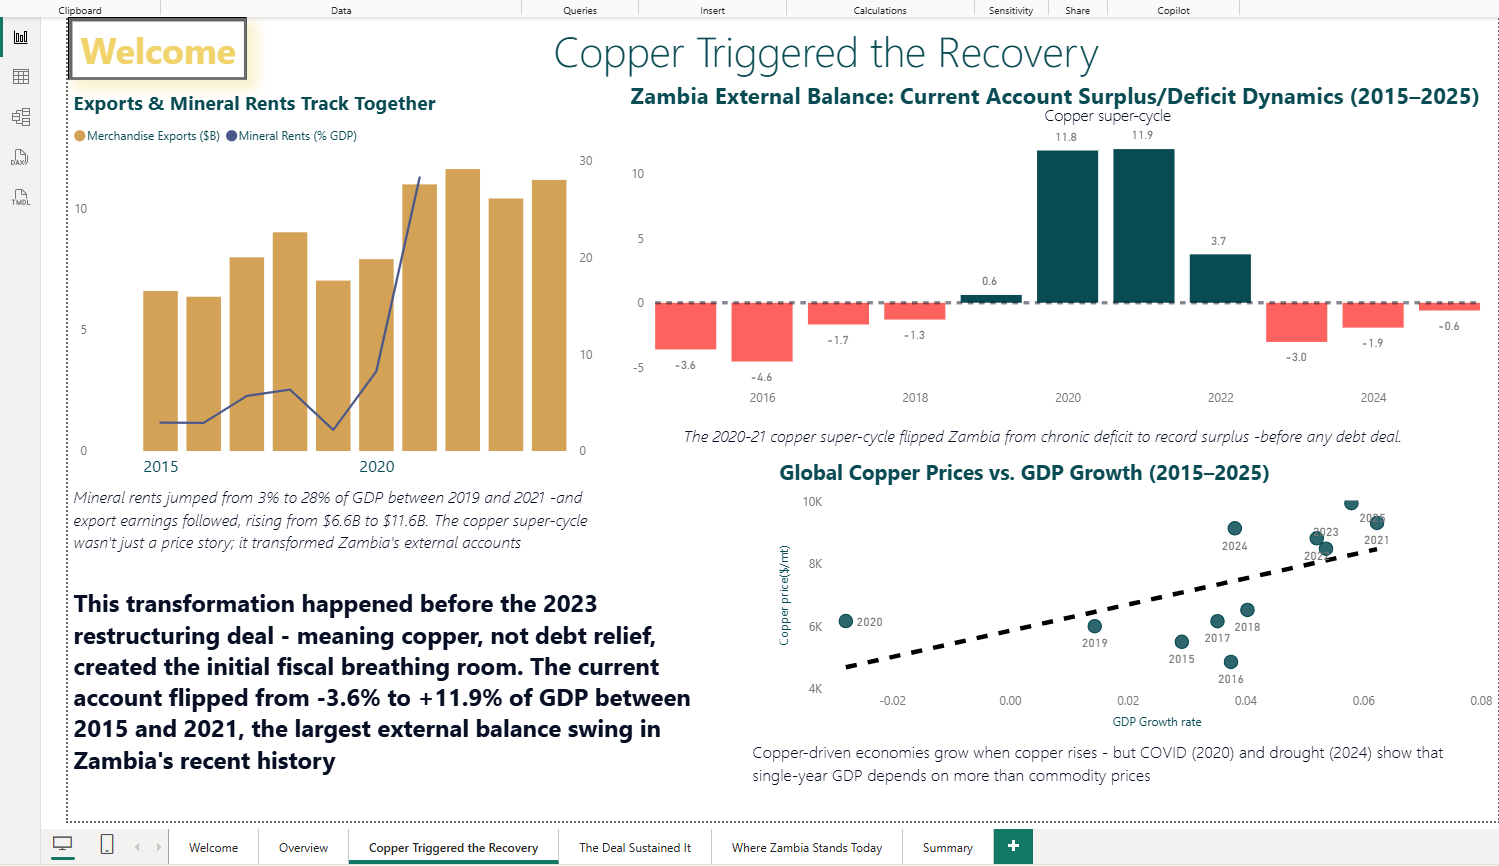

Layout of this report page (visuals, bound fields, positions):
{"tool":"powerbi","page":{"name":"Copper Triggered the Recovery","canvas":[1280,720],"ordinal":2},"visuals":[{"type":"scatterChart","title":"Global Copper Prices vs. GDP Growth (2015–2025)","fields":{"X":["Master_Economic_Data.GDP Growth (%)"],"Category":["Copper production/Price (USD/MT, Nominal).Year "],"Y":["Sum(Copper production/Price (USD/MT, Nominal).Copper price ($/mt))"]},"box":[631.9,394.8,648.1,247.9],"z":0},{"type":"clusteredColumnChart","title":"Zambia External Balance: Current Account Surplus/Deficit Dynamics (2015–2025)","fields":{"Category":["Master_Economic_Data.Year"],"Y":["Master_Economic_Data.Current Account Balance"]},"box":[498.5,55.9,770.7,303.8],"z":1000},{"type":"actionButton","box":[0,0,159.5,55.9],"z":2000},{"type":"textbox","box":[430,0,589.5,64.9],"z":3000},{"type":"textbox","box":[0,504.8,567.9,215.4],"z":4000},{"type":"lineClusteredColumnComboChart","title":"Exports & Mineral Rents Track Together","fields":{"Category":["Macro_Annual.Year"],"Y":["Sum(Macro_Annual.MerchandiseExports_Billions)"],"Y2":["Sum(Macro_Annual.MineralRents_PctGDP)"]},"box":[0,64.9,475,357.9],"z":5000},{"type":"textbox","box":[546.3,359.7,665.2,42.4],"z":6000},{"type":"textbox","box":[869.9,73,141.5,32.5],"z":7000},{"type":"textbox","box":[608.5,642.7,660.7,77.5],"z":8000},{"type":"textbox","box":[0,414.6,475,74.8],"z":9000}]}

Visuals, with their boxes on the page's 1280x720 design canvas (x1, y1, x2, y2). These are canvas units, not pixel positions in the 1499x866 screenshot, which may show the page scaled, cropped or inside an application window:
"Global Copper Prices vs. GDP Growth (2015–2025)" scatterChart: 632/395/1280/643
"Zambia External Balance: Current Account Surplus/Deficit Dynamics (2015–2025)" clusteredColumnChart: 498/56/1269/360
actionButton: 0/0/160/56
textbox: 430/0/1020/65
textbox: 0/505/568/720
"Exports & Mineral Rents Track Together" lineClusteredColumnComboChart: 0/65/475/423
textbox: 546/360/1212/402
textbox: 870/73/1011/106
textbox: 608/643/1269/720
textbox: 0/415/475/489
